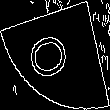O_E: (30, 27, 80, 83)
